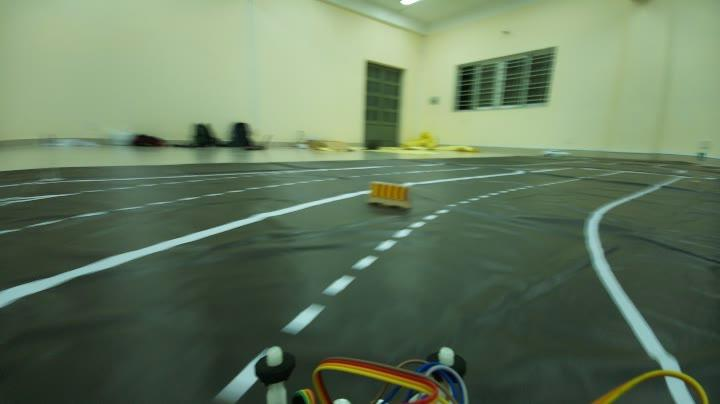roadblock: (366, 176, 414, 211)
